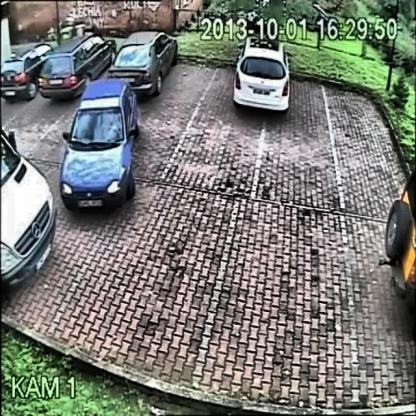free: (247, 244, 344, 399), (110, 222, 197, 362), (329, 78, 388, 144), (184, 42, 227, 108)
occupied: (0, 121, 55, 295), (235, 32, 295, 117), (120, 25, 174, 94), (47, 40, 101, 96), (0, 36, 38, 100)
